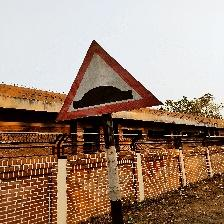Speed-breaker: (54, 40, 165, 122)
